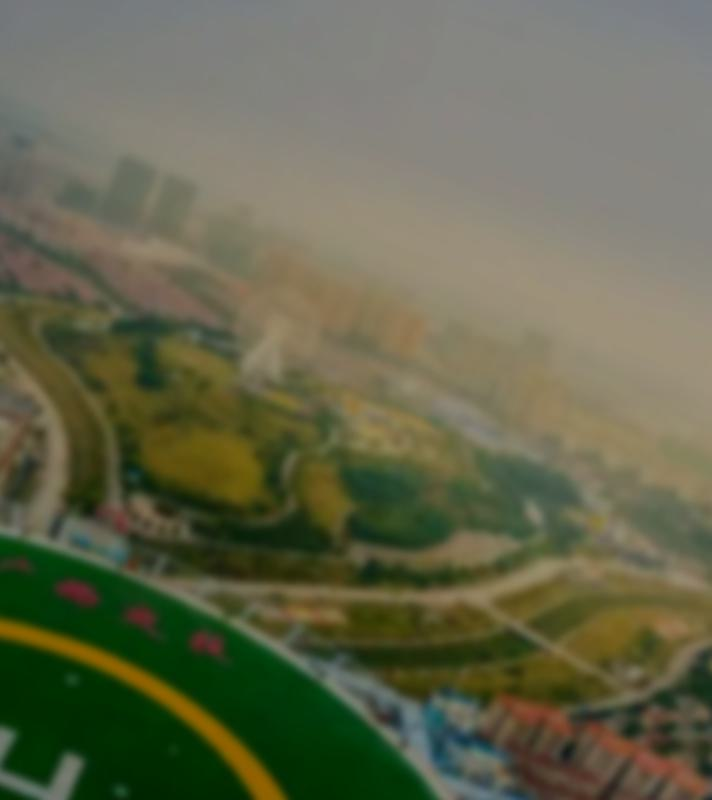Apron: (5, 611, 313, 795)
